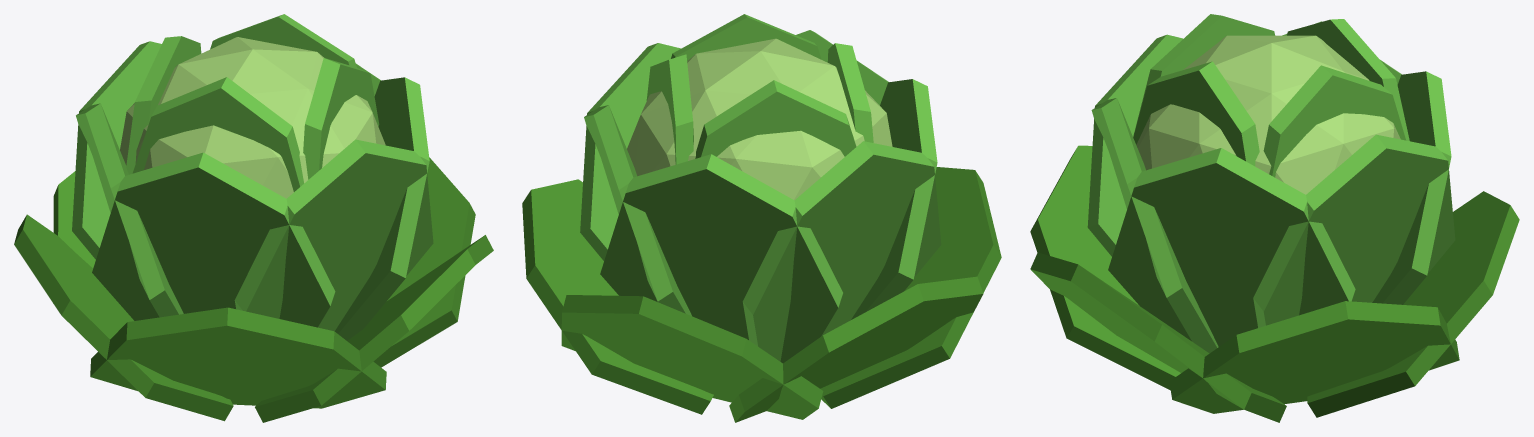
The model's file is myw_cabbage.glb.
3 views of the same model, side by side, from view 1: azimuth 30°, elevation 25°; view 2: azimuth 150°, elevation 25°; view 3: azimuth 270°, elevation 25° (orthographic).
Parts seen in each view (by area): view 1: Cabbage; view 2: Cabbage; view 3: Cabbage.
Boxes of the visible parts, x1,y1,x2,y2 form: Cabbage: [14, 14, 493, 422]; Cabbage: [522, 14, 1001, 422]; Cabbage: [1030, 14, 1519, 422].
Bounding box in the file's own units: 2.09 × 1.64 × 2.1.
